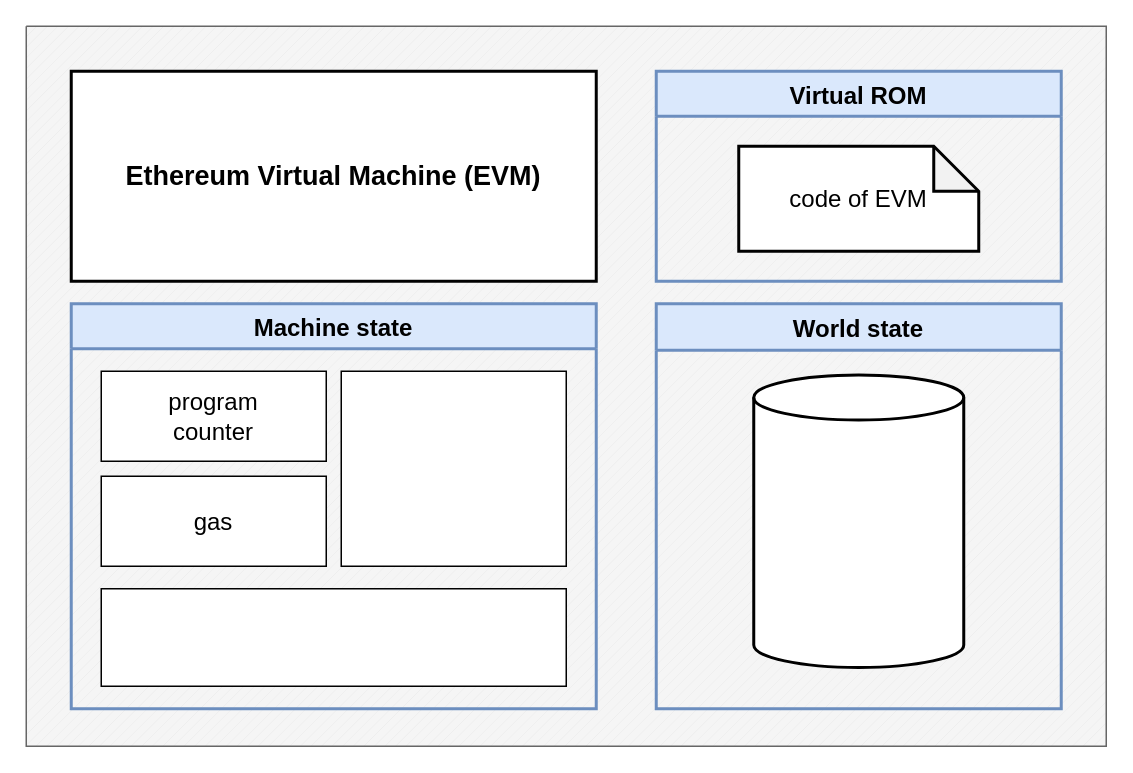
This 1133x773 diagram has some shape labels left out. Each missing label, with the centre of its shape:
"accounts (storage)" belongs at [858,520].
"memory" belongs at [333,636].
"stack" belongs at [453,468].
